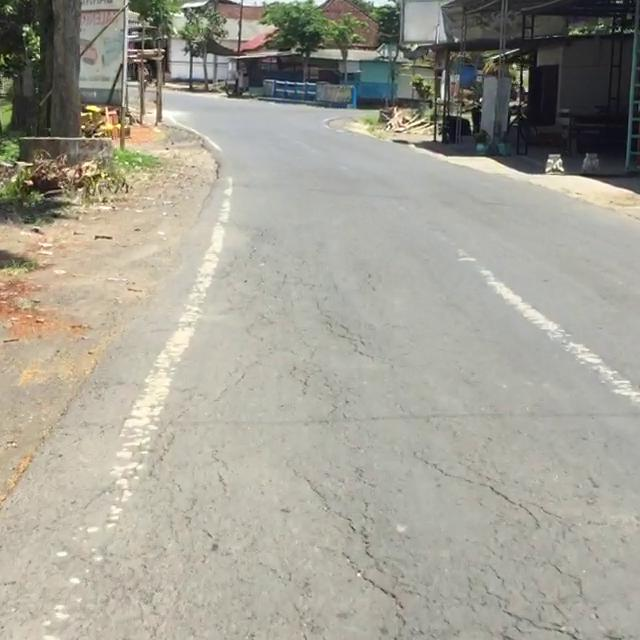retak_kulit_buaya: (278, 427, 614, 640)
